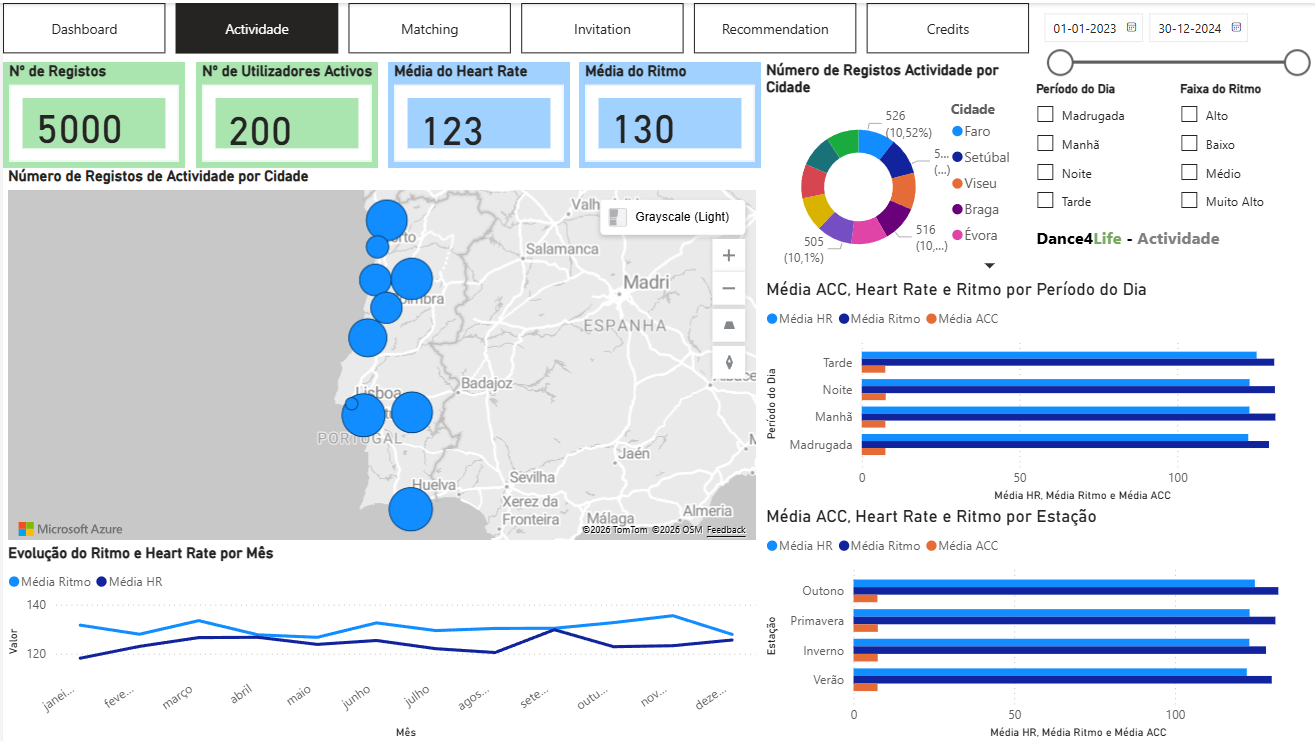

The page's visual inventory and layout, read from the dashboard file:
{"tool":"powerbi","page":{"name":"Actividade","canvas":[1280,720],"ordinal":1},"visuals":[{"type":"cardVisual","title":"Nº de Registos","fields":{"Data":["dance4life_activity.Total Atividades"]},"box":[0,57.4,177,103.1],"z":0},{"type":"donutChart","title":"Número de Registos Actividade por Cidade","fields":{"Y":["dance4life_activity.Total Atividades"],"Category":["dance4life_activity.city"]},"box":[737.3,57.4,262.6,211.1],"z":1000},{"type":"lineChart","title":"Evolução do Ritmo e Heart Rate por Mês","fields":{"Category":["DateTable.Date.Variação.Hierarquia de Datas.Mês"],"Y":["dance4life_activity.Média Ritmo","dance4life_activity.Média HR"]},"box":[0,527.2,737.3,192.6],"z":2000},{"type":"slicer","title":"Limitador de dadas","fields":{"Values":["DateTable.Date"]},"box":[999.9,0,280.1,76.8],"z":3000},{"type":"cardVisual","title":"Nº de Utilizadores Activos","fields":{"Data":["dance4life_activity.Utilizadores Ativos"]},"box":[187.7,57.4,177,103.1],"z":4000},{"type":"cardVisual","title":"Média do Heart Rate","fields":{"Data":["dance4life_activity.Média HR"]},"box":[374.5,57.4,177,103.1],"z":5000},{"type":"cardVisual","title":"Média do Ritmo","fields":{"Data":["dance4life_activity.Média Ritmo"]},"box":[560.2,57.4,177,103.1],"z":6000},{"type":"pageNavigator","box":[0,0,999.9,49.6],"z":7000},{"type":"listSlicer","title":"Período do Dia","fields":{"Values":["dance4life_activity.Período do Dia"]},"box":[999.9,76.8,140.1,135.2],"z":8000},{"type":"listSlicer","title":"Faixa do Ritmo","fields":{"Values":["dance4life_activity.Faixa Ritmo"]},"box":[1139.9,76.8,140.1,135.2],"z":9000},{"type":"textbox","box":[999.9,212,280.1,56.4],"z":10000},{"type":"azureMap","title":"Número de Registos de Actividade por Cidade","fields":{"Category":["dance4life_activity.city"],"Size":["dance4life_activity.Total Atividades"]},"box":[0,160.5,737.3,366.7],"z":11000},{"type":"clusteredBarChart","title":"Média ACC, Heart Rate e Ritmo por Período do Dia","fields":{"Category":["dance4life_activity.Período do Dia"],"Y":["dance4life_activity.Média HR","dance4life_activity.Média Ritmo","dance4life_activity.Média ACC"]},"box":[737.3,268.4,542.7,220.8],"z":12000},{"type":"clusteredBarChart","title":"Média ACC, Heart Rate e Ritmo por Estação","fields":{"Category":["dance4life_activity.Estação"],"Y":["dance4life_activity.Média HR","dance4life_activity.Média Ritmo","dance4life_activity.Média ACC"]},"box":[737.3,489.2,542.7,230.5],"z":13000}]}

Visuals, with their boxes in screenshot pixels (x1, y1, x2, y2), scaled from the page's 1280x720 canvas onto the 1315x741 screenshot:
"Nº de Registos" cardVisual: <bbox>0, 59, 182, 165</bbox>
"Número de Registos Actividade por Cidade" donutChart: <bbox>757, 59, 1027, 276</bbox>
"Evolução do Ritmo e Heart Rate por Mês" lineChart: <bbox>0, 543, 757, 740</bbox>
"Limitador de dadas" slicer: <bbox>1027, 0, 1314, 79</bbox>
"Nº de Utilizadores Activos" cardVisual: <bbox>193, 59, 375, 165</bbox>
"Média do Heart Rate" cardVisual: <bbox>385, 59, 567, 165</bbox>
"Média do Ritmo" cardVisual: <bbox>576, 59, 757, 165</bbox>
pageNavigator: <bbox>0, 0, 1027, 51</bbox>
"Período do Dia" listSlicer: <bbox>1027, 79, 1171, 218</bbox>
"Faixa do Ritmo" listSlicer: <bbox>1171, 79, 1314, 218</bbox>
textbox: <bbox>1027, 218, 1314, 276</bbox>
"Número de Registos de Actividade por Cidade" azureMap: <bbox>0, 165, 757, 543</bbox>
"Média ACC, Heart Rate e Ritmo por Período do Dia" clusteredBarChart: <bbox>757, 276, 1314, 503</bbox>
"Média ACC, Heart Rate e Ritmo por Estação" clusteredBarChart: <bbox>757, 503, 1314, 740</bbox>
